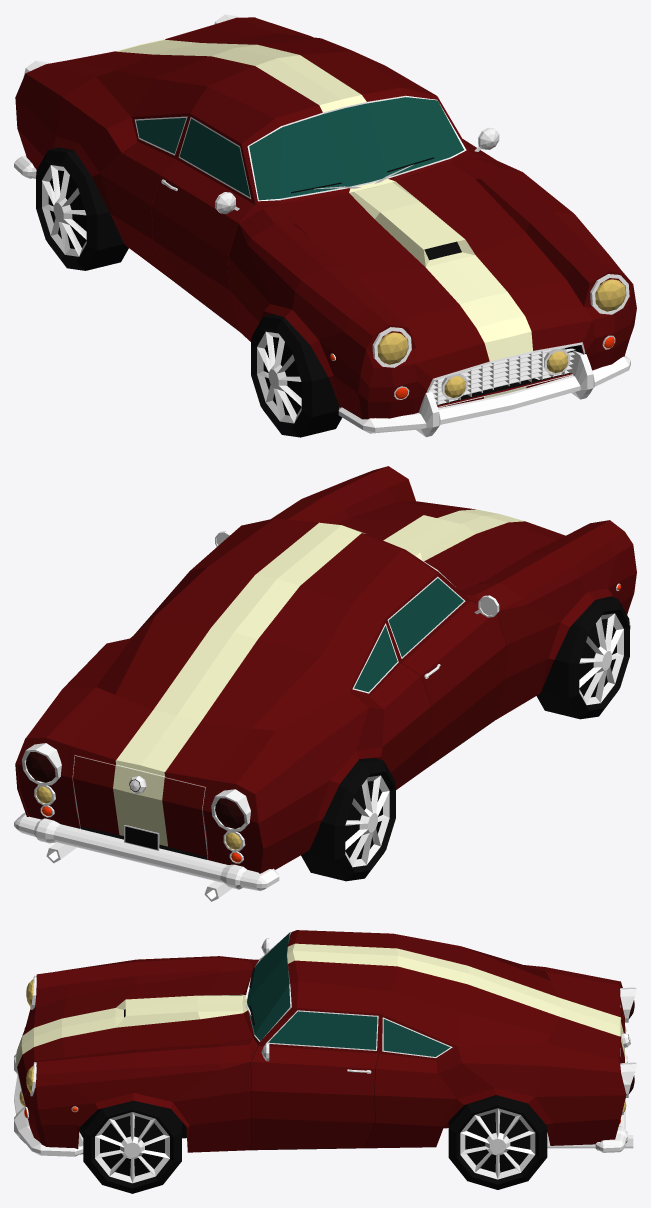
The model's file is MuscleCar_01.FBX.
The picture shows the model from 3 angles, top to bottom: view 1: azimuth 30°, elevation 25°; view 2: azimuth 150°, elevation 25°; view 3: azimuth 270°, elevation 25°; orthographic projection. The views are drawn at different scales.
Parts seen in each view (by area): view 1: Fastback_01, wheel_f_r, wheel_b_r, bumper_f, headLights, lights; view 2: Fastback_01, wheel_b_r, wheel_f_r, bumper_b, lights, tailLights, licensePlate_b; view 3: Fastback_01, wheel_f_l, wheel_b_l, bumper_f, lights, bumper_b.
Part boxes in pixels (x1,y1,x2,y2): Fastback_01: (15, 17, 636, 419); wheel_f_r: (251, 314, 342, 437); wheel_b_r: (36, 147, 128, 270); bumper_f: (338, 350, 630, 437); headLights: (377, 279, 625, 397); lights: (23, 14, 629, 400); Fastback_01: (15, 466, 636, 873); wheel_b_r: (301, 758, 395, 881); wheel_f_r: (536, 596, 629, 719); bumper_b: (14, 812, 279, 890); lights: (22, 468, 622, 863); tailLights: (26, 752, 244, 828); licensePlate_b: (124, 825, 159, 850); Fastback_01: (16, 930, 630, 1152); wheel_f_l: (83, 1100, 181, 1193); wheel_b_l: (448, 1095, 547, 1189); bumper_f: (14, 1054, 83, 1156); lights: (25, 975, 636, 1118); bumper_b: (595, 1052, 627, 1152).
Size of the model in its own units: 28.06 by 18.45 by 56.95.
